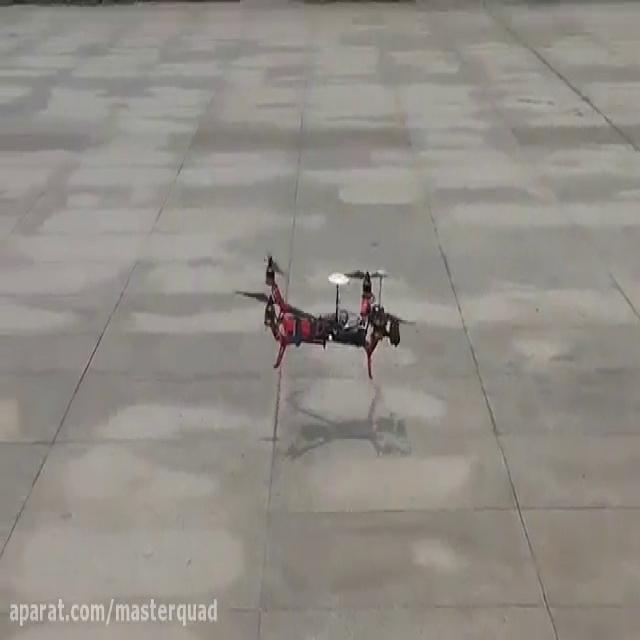drone: (228, 240, 421, 384)
